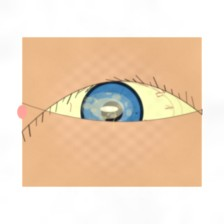corneal_ulcer: (80, 87, 134, 130)
